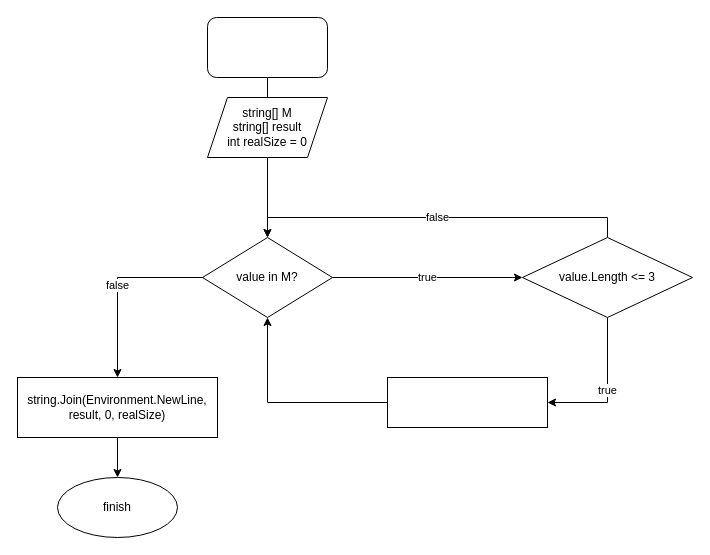
This 710x555 diagram has some shape labels left out. Each missing label, with the centre of its shape:
result[realSize] = value realSize++: [467,402]
start: [267,47]
